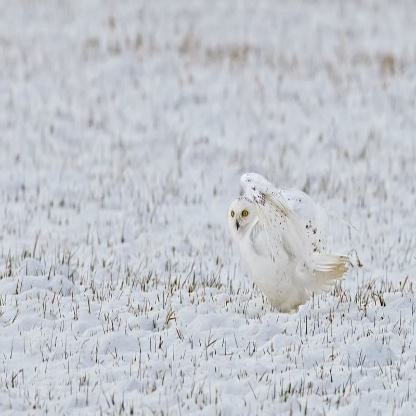Owl: (224, 176, 344, 310)
